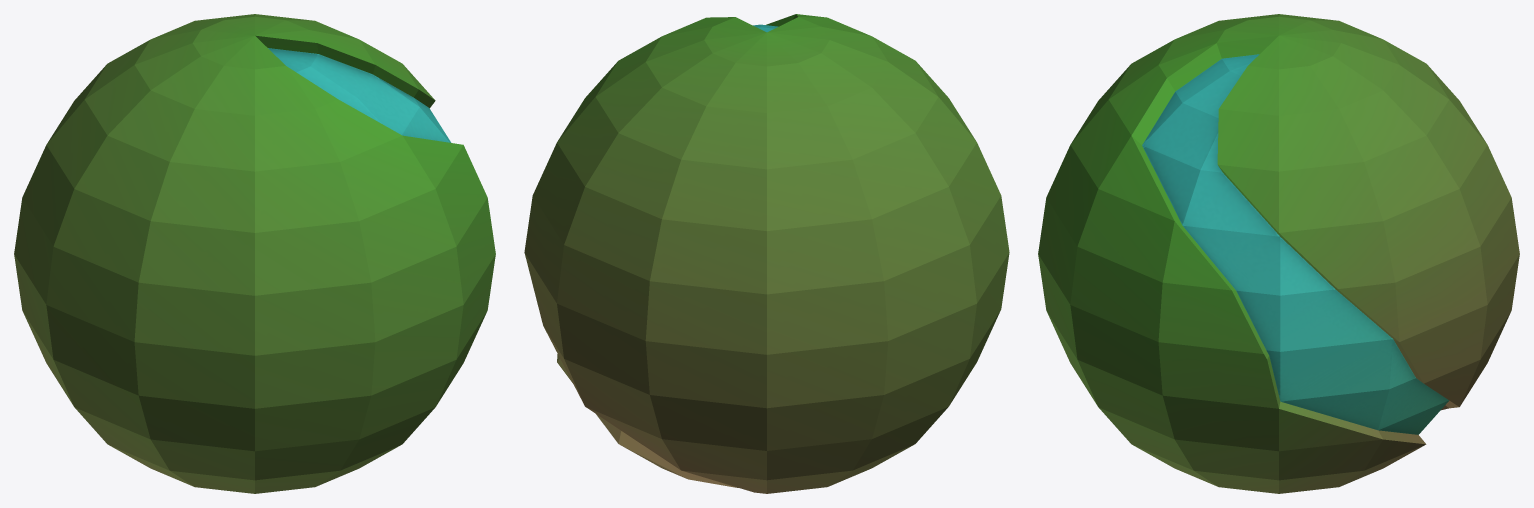
Rendered from Prairie Planet.fbx.
3 views of the same model, side by side, from view 1: azimuth 30°, elevation 25°; view 2: azimuth 150°, elevation 25°; view 3: azimuth 270°, elevation 25° (orthographic).
Visible parts, largest first — view 1: Sphere; view 2: Sphere; view 3: Sphere.
Part boxes in pixels (x1,y1,x2,y2): Sphere: [14, 14, 495, 493]; Sphere: [524, 14, 1009, 493]; Sphere: [1038, 14, 1519, 493].
Bounding box in the file's own units: 1268 × 1279 × 1279.
1 material, 1 textured.
